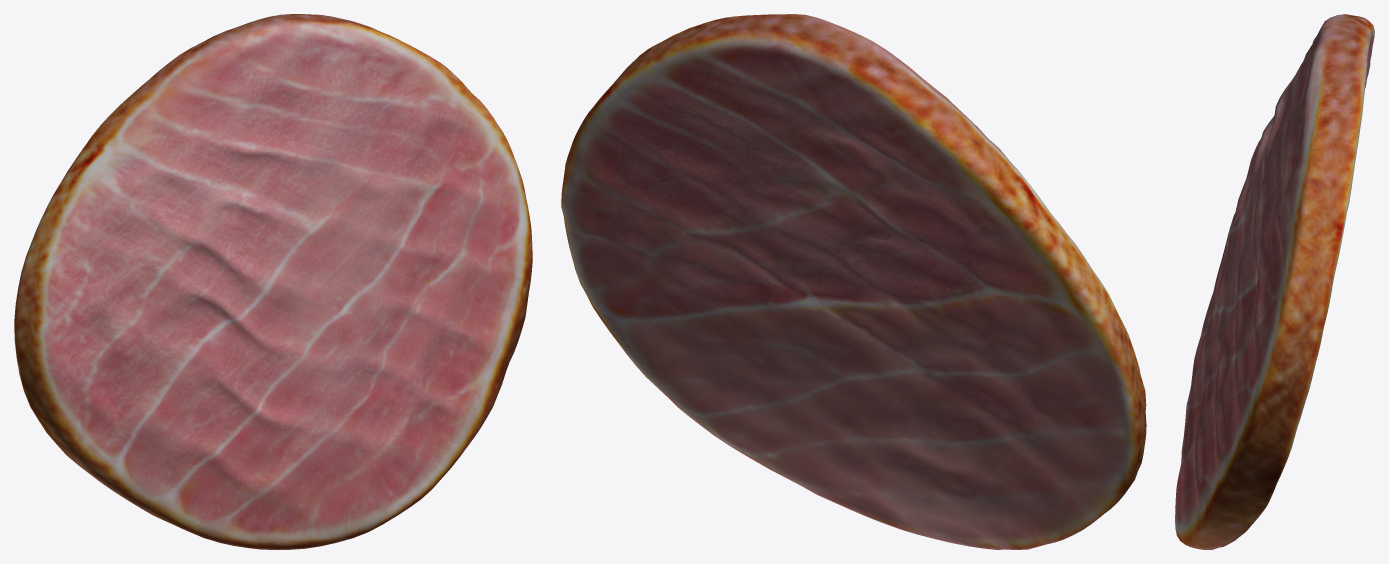
File: Sjambon.fbx
3 views of the same model, side by side, from view 1: azimuth 30°, elevation 25°; view 2: azimuth 150°, elevation 25°; view 3: azimuth 270°, elevation 25° (orthographic). The views are drawn at different scales.
Visible parts, largest first — view 1: mesh; view 2: mesh; view 3: mesh.
Boxes of the visible parts, x1=… form: mesh: x1=14, y1=14, x2=532, y2=549; mesh: x1=561, y1=14, x2=1146, y2=549; mesh: x1=1175, y1=14, x2=1374, y2=549.
Size of the model in its own units: 99.82 by 91.51 by 33.26.
